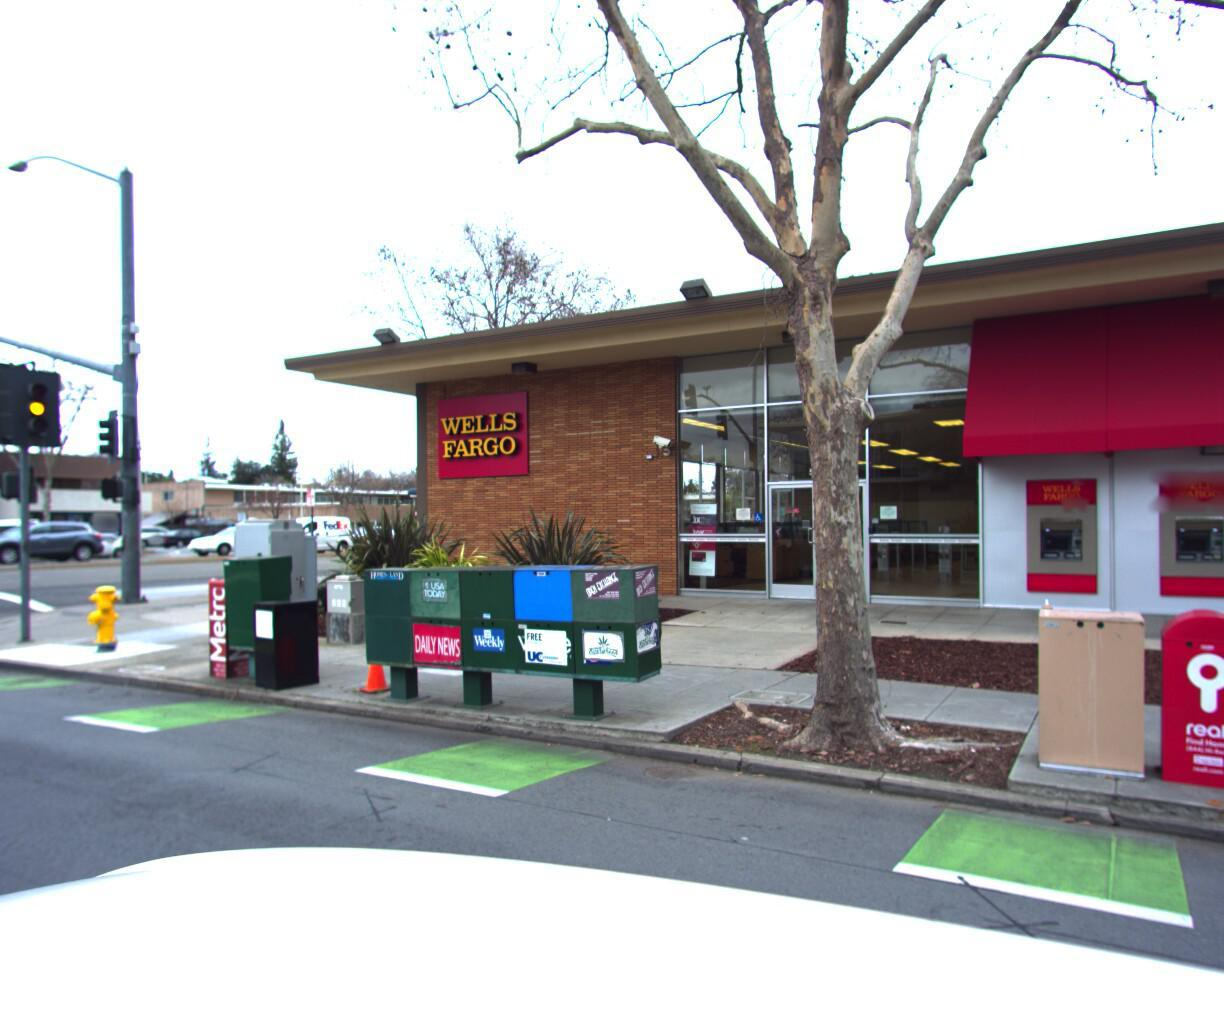car: (0, 523, 114, 568), (257, 515, 364, 557), (188, 524, 294, 556), (48, 534, 146, 564), (0, 519, 53, 568)
